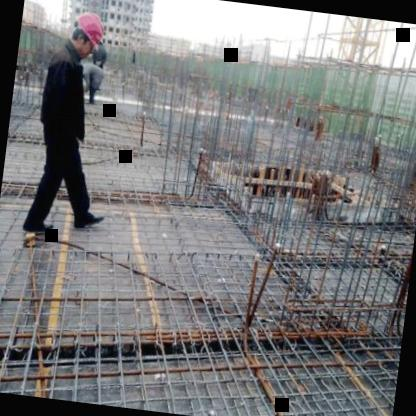helmet: (66, 6, 108, 62)
